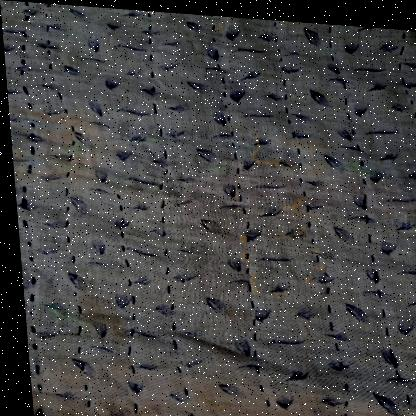spot: (240, 121, 292, 174), (228, 225, 259, 265), (343, 149, 382, 176), (60, 135, 93, 160), (292, 256, 331, 276), (46, 302, 83, 322), (288, 191, 313, 218), (267, 222, 304, 239)
